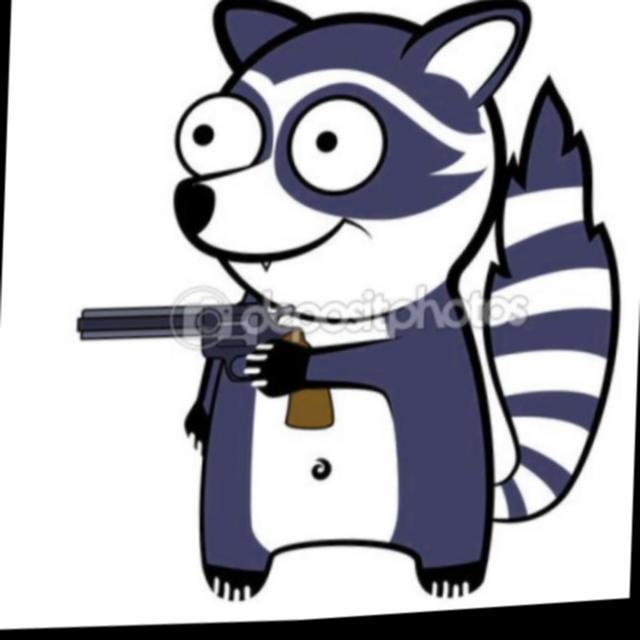weapon: (74, 290, 350, 454)
